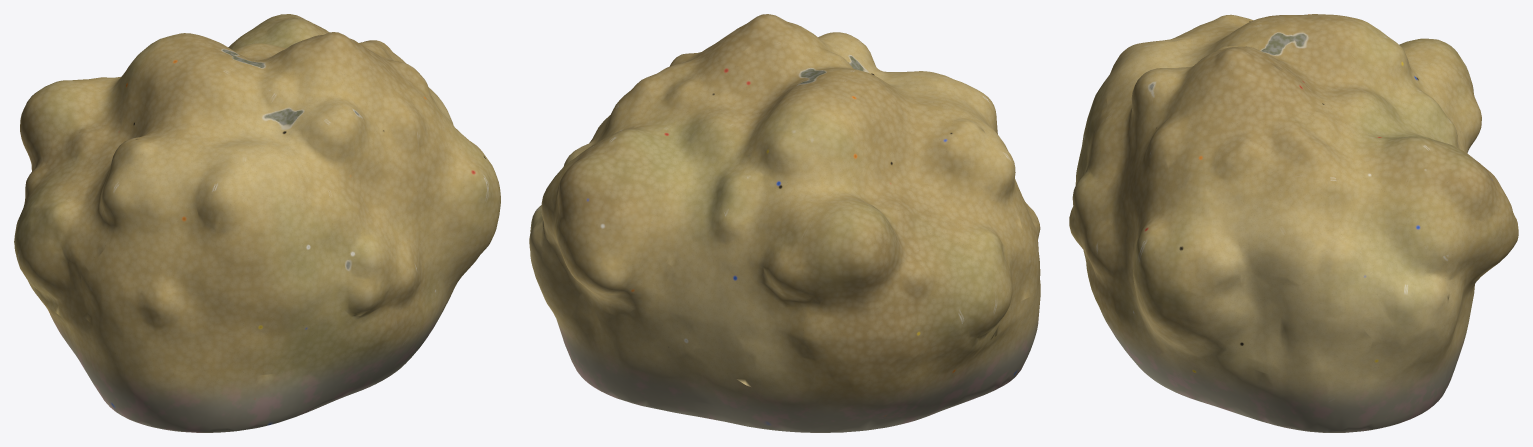
Rendered from Coral_Massive_A.gltf.
3 views of the same model, side by side, from view 1: azimuth 30°, elevation 25°; view 2: azimuth 150°, elevation 25°; view 3: azimuth 270°, elevation 25° (orthographic).
Visible parts, largest first — view 1: Coral_Massive_A; view 2: Coral_Massive_A; view 3: Coral_Massive_A.
Boxes of the visible parts, x1=… form: Coral_Massive_A: x1=14, y1=14, x2=500, y2=432; Coral_Massive_A: x1=529, y1=14, x2=1040, y2=432; Coral_Massive_A: x1=1069, y1=14, x2=1518, y2=432.
Size of the model in its own units: 2.14 by 1.51 by 1.92.
1 material, 1 textured.
